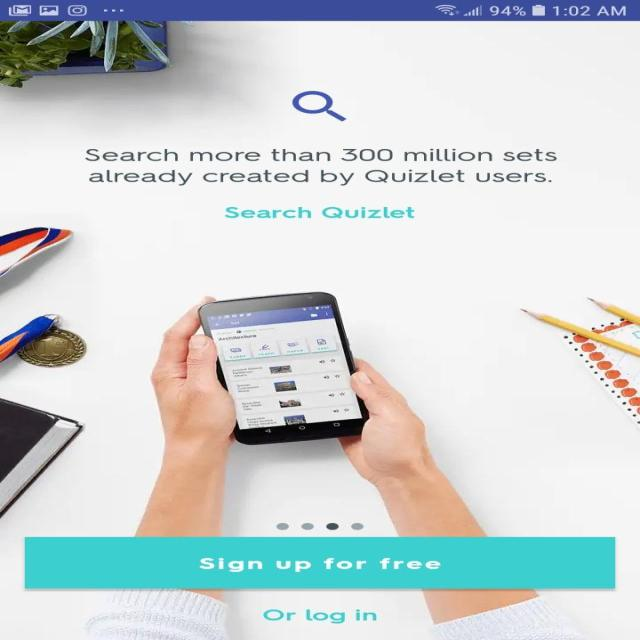BackgroundImage: (0, 21, 639, 639)
Icon: (292, 90, 346, 122)
Text: (84, 148, 556, 186), (224, 206, 414, 218), (262, 608, 377, 624)
TextButton: (24, 537, 614, 588)
